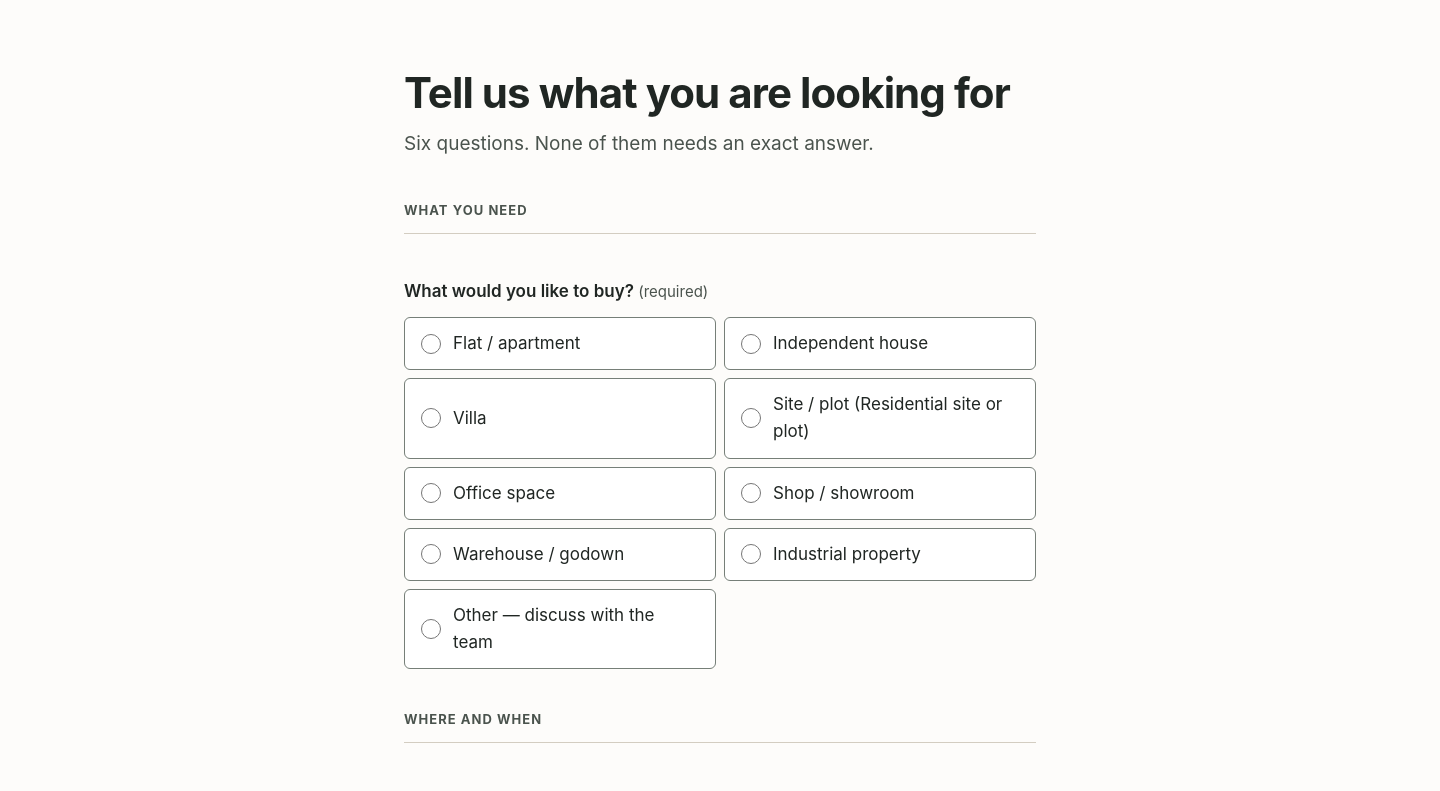
it: submission outcomes › tells the customer plainly when the enquiry was not saved
Step 1. Click the radio button labelled "Flat / apartment" → click(431, 344), box [421,334,441,354]
(page scrolled)
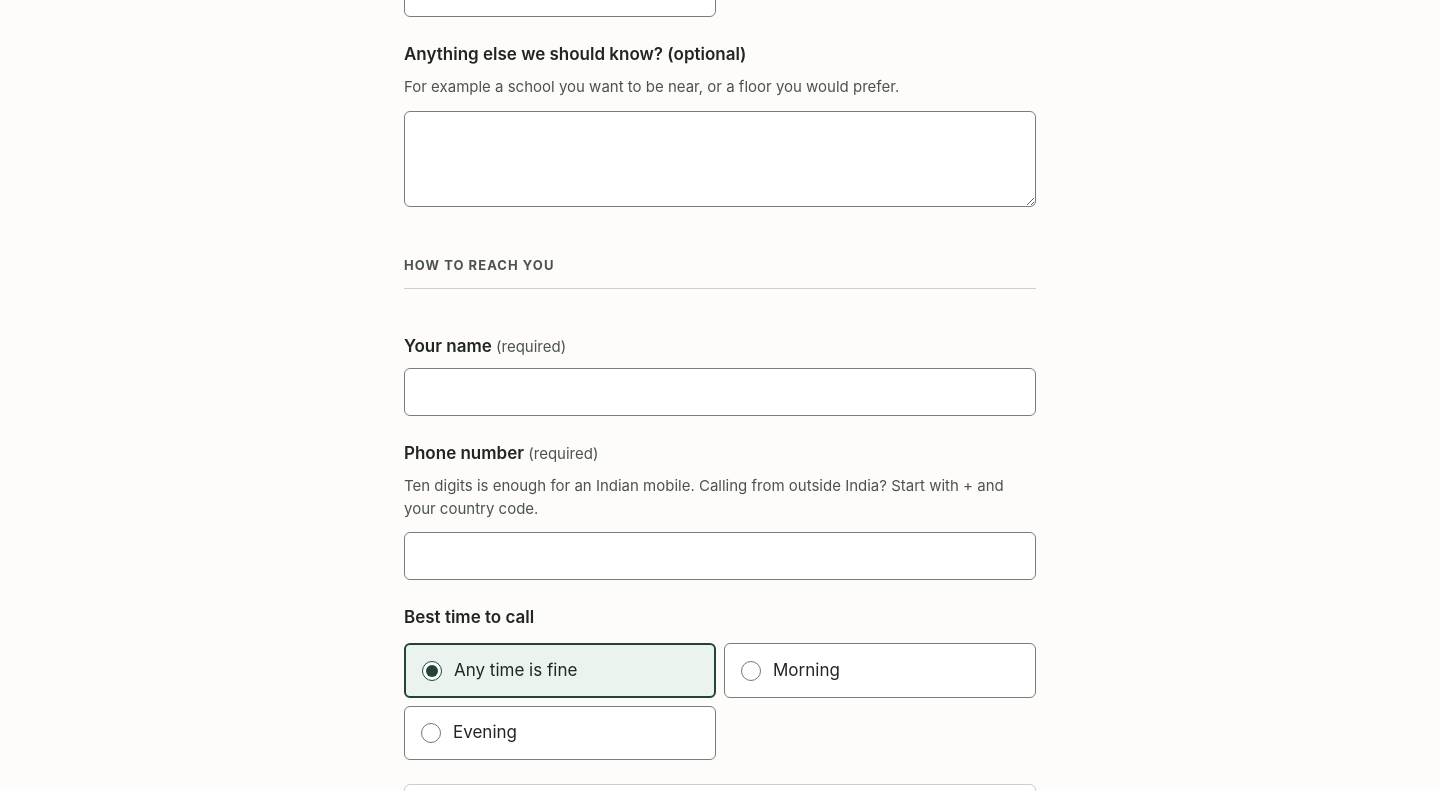
Step 2. Type "Synthetic Test Person" into the field labelled "Your name (required)" → (720, 392), box [404,368,1036,416]
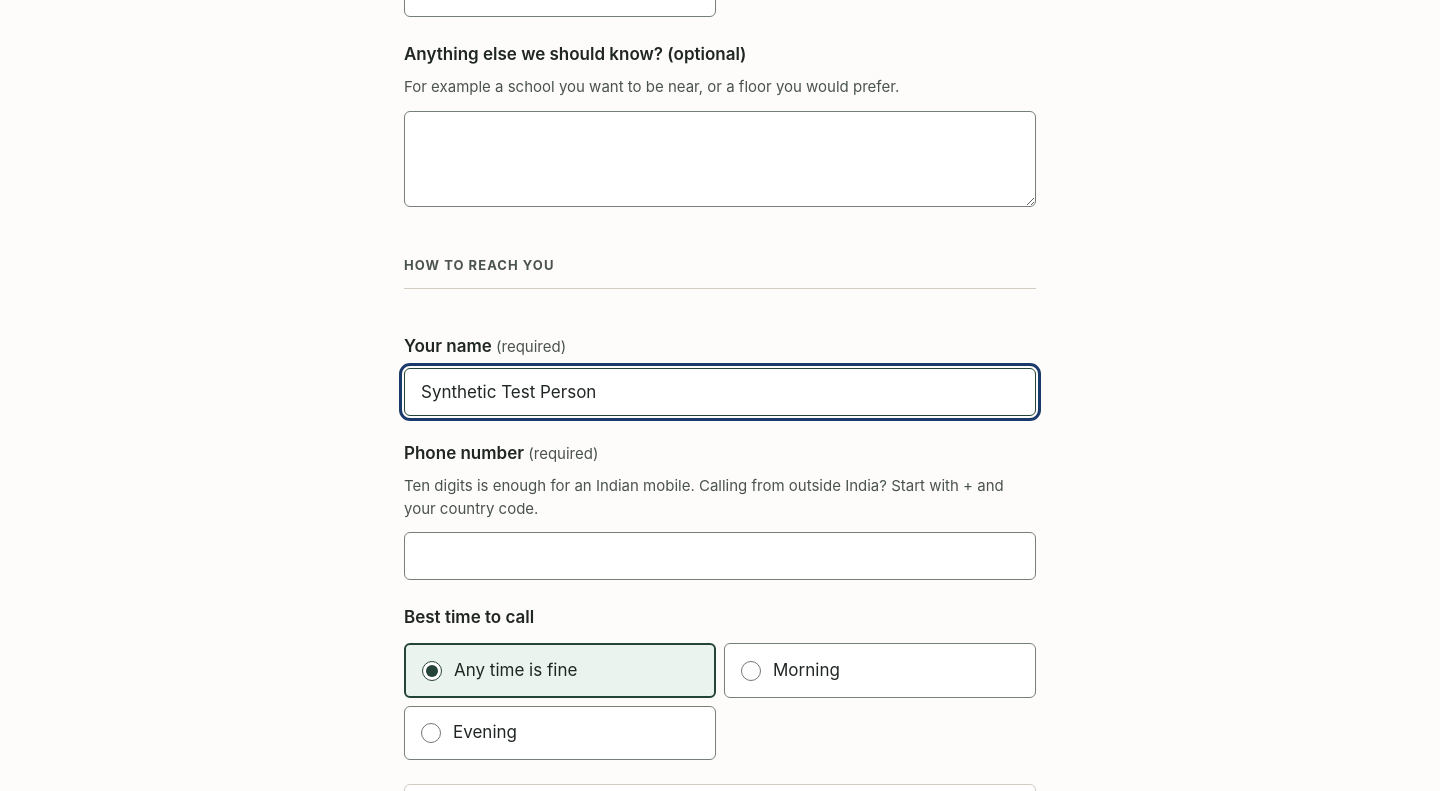
Step 3. Type "9845012345" into the field labelled "Phone number (required)" → (720, 556), box [404,532,1036,580]
(page scrolled)
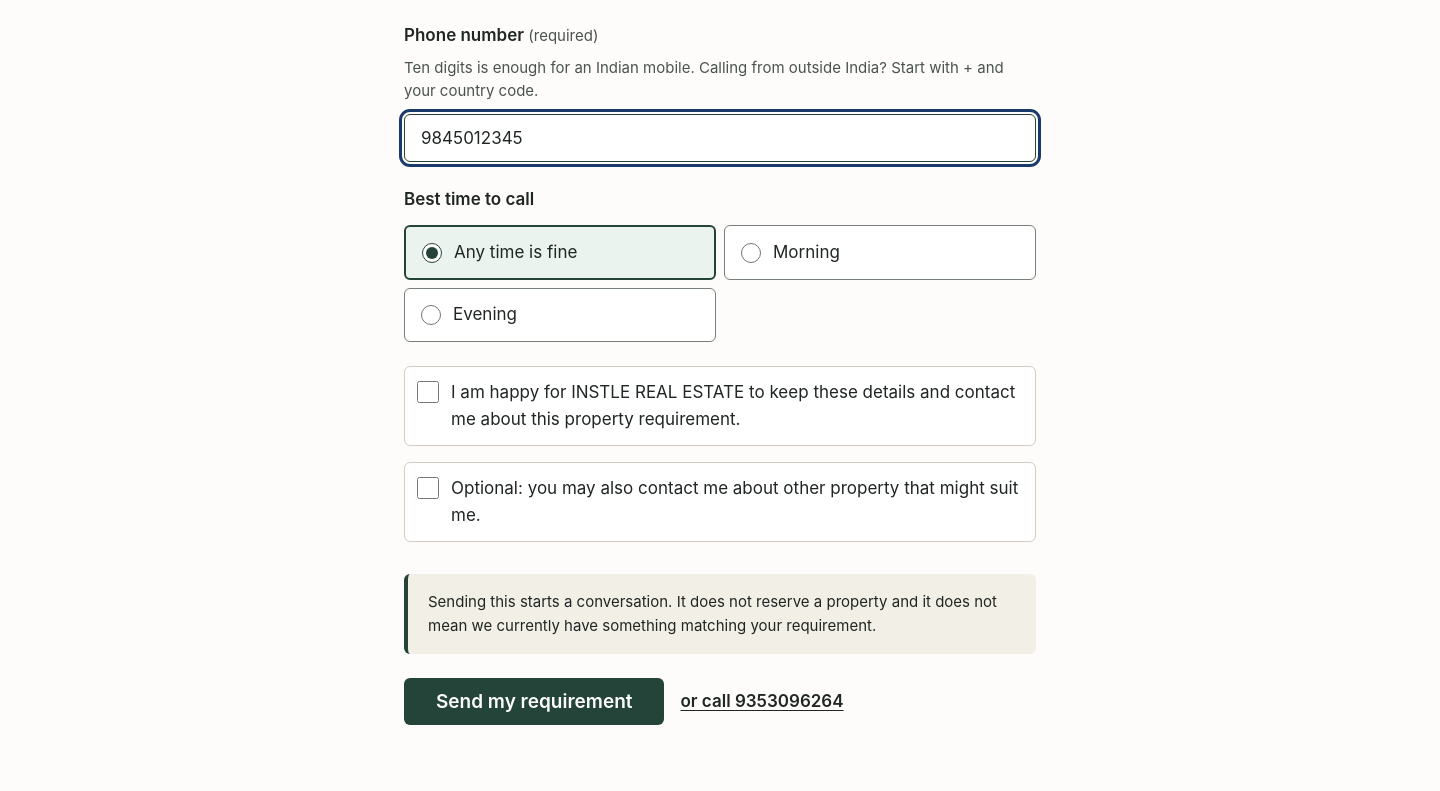
Step 4. Click the checkbox labelled "happy for" → click(428, 392), box [417,381,439,403]
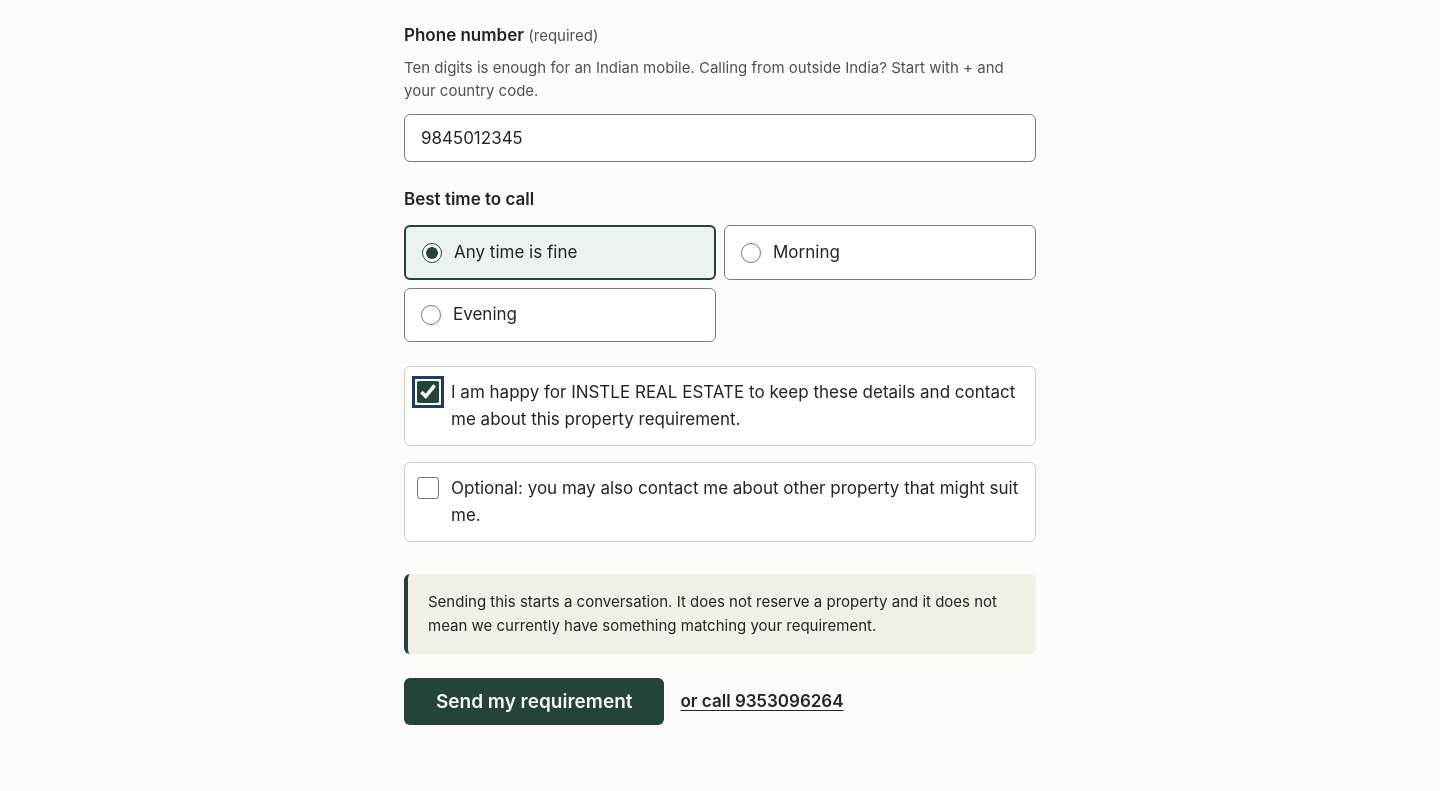
Step 5. Click the button "Send my requirement" → click(534, 702), box [404,678,664,725]
(page scrolled)
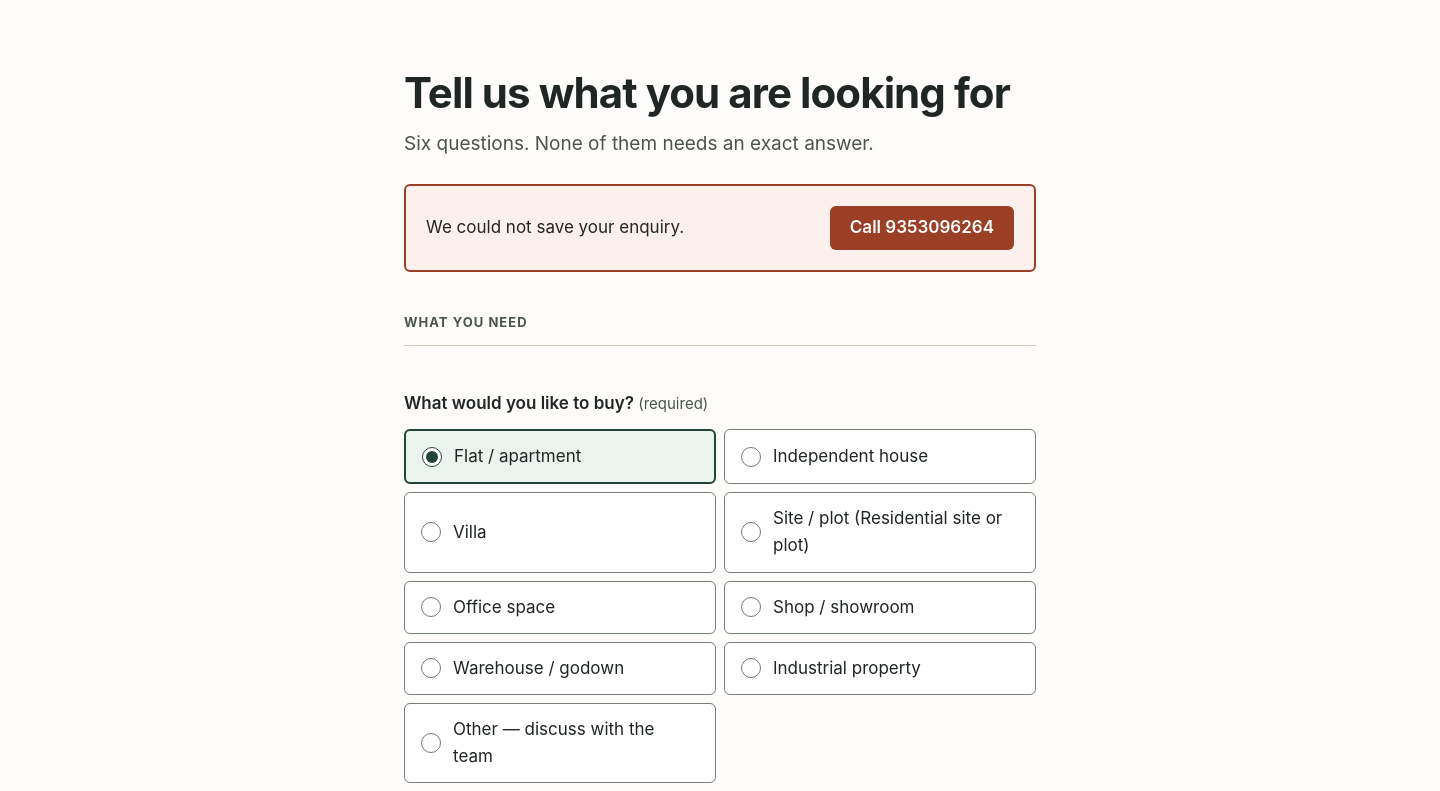
Expected: the message shows "could not save", [426,217,684,237]
